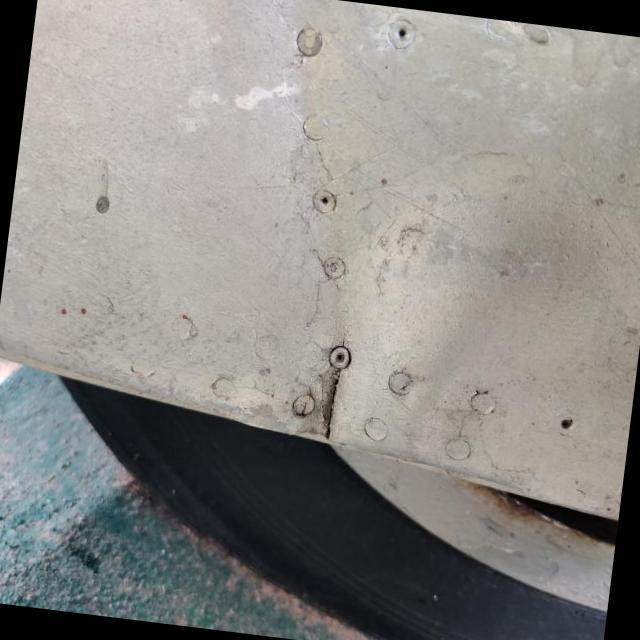Rupture: (296, 352, 376, 452)
